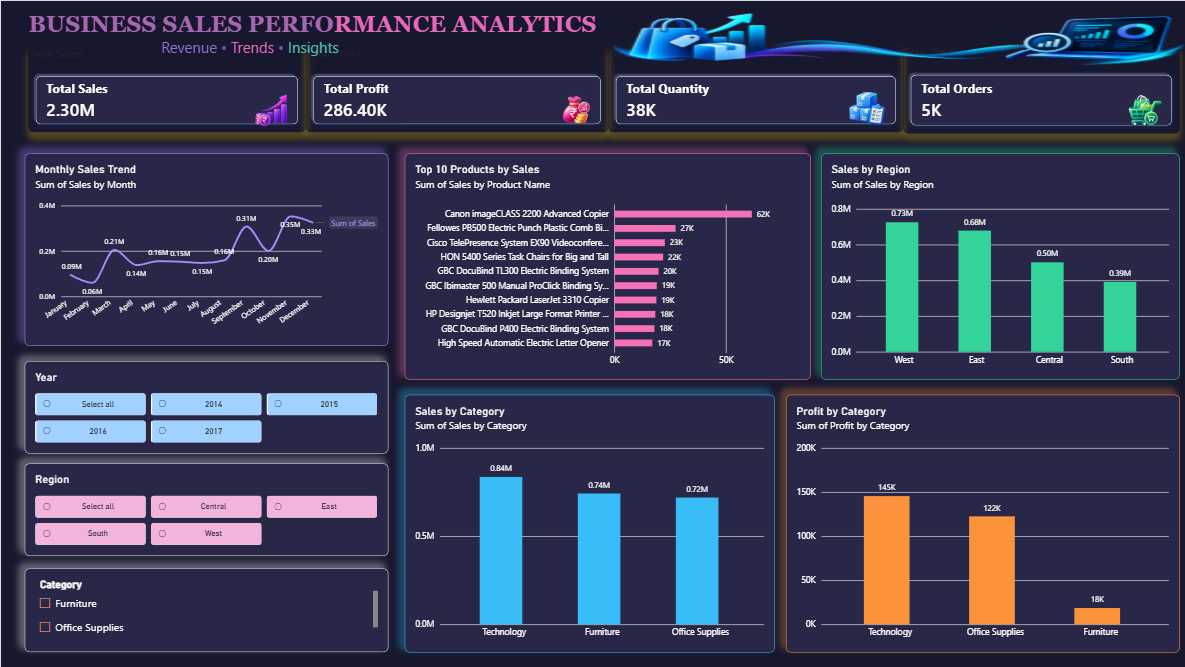

This screenshot's page, from the dashboard's own definition file:
{"tool":"powerbi","page":{"name":"Page 1","canvas":[1920,1080],"ordinal":0},"visuals":[{"type":"cardVisual","title":"Total Sales","fields":{"Data":["Sum(Sample - Superstore.Sales)"]},"box":[44.5,73.3,448.8,139.5],"z":0},{"type":"cardVisual","title":"Total Profit","fields":{"Data":["Sum(Sample - Superstore.Profit)"]},"box":[493.2,73.3,489.2,139.5],"z":1000},{"type":"cardVisual","title":"Total Quantity","fields":{"Data":["Sum(Sample - Superstore.Quantity)"]},"box":[982.4,73.3,477.1,139.5],"z":2000},{"type":"cardVisual","title":"Total Orders","fields":{"Data":["Sample - Superstore.Total Orders"]},"box":[1459.5,71.3,446.7,143.5],"z":3000},{"type":"lineChart","title":"Monthly Sales Trend","fields":{"Category":["Sample - Superstore.Order Date.Variation.Date Hierarchy.Year","Sample - Superstore.Order Date.Variation.Date Hierarchy.Month"],"Y":["Sum(Sample - Superstore.Sales)"]},"box":[38.4,246.6,588.3,311.3],"z":4000},{"type":"clusteredBarChart","title":"Top 10 Products by Sales","fields":{"Category":["Sample - Superstore.Product Name"],"Y":["Sum(Sample - Superstore.Sales)"]},"box":[652.9,246.6,657,365.9],"z":5000},{"type":"clusteredColumnChart","title":"Sales by Category","fields":{"Category":["Sample - Superstore.Category"],"Y":["Sum(Sample - Superstore.Sales)"]},"box":[652.9,636.8,598.4,416.4],"z":6000},{"type":"clusteredColumnChart","title":"Sales by Region","fields":{"Category":["Sample - Superstore.Region"],"Y":["Sum(Sample - Superstore.Sales)"]},"box":[1326.1,246.6,580.2,365.9],"z":7000},{"type":"clusteredColumnChart","title":"Profit by Category","fields":{"Category":["Sample - Superstore.Category"],"Y":["Sum(Sample - Superstore.Profit)"]},"box":[1269.5,636.8,636.8,416.4],"z":8000},{"type":"textbox","box":[469,0,952.1,161.7],"z":9000},{"type":"textbox","box":[44.5,16.2,1000.6,97],"z":10000},{"type":"advancedSlicerVisual","fields":{"Values":["Sample - Superstore.Order Date.Variation.Date Hierarchy.Year"]},"box":[38.4,582.2,588.3,149.6],"z":11000},{"type":"advancedSlicerVisual","fields":{"Values":["Sample - Superstore.Region"]},"box":[38.4,747.9,588.3,149.6],"z":12000},{"type":"slicer","fields":{"Values":["Sample - Superstore.Category"]},"box":[38.4,917.8,588.3,135.4],"z":13000},{"type":"image","box":[313.3,141.5,250.7,66.7],"z":13001},{"type":"image","box":[776.3,141.5,309.3,68.7],"z":13002},{"type":"image","box":[1251.3,129.4,299.2,86.9],"z":13003},{"type":"image","box":[1778.9,141.5,141.5,74.8],"z":13004},{"type":"image","box":[982.4,0,938,129.4],"z":13005}]}

Visuals, with their boxes in screenshot pixels (x1, y1, x2, y2), scaled from the page's 1920x1080 canvas onto the 1185x667 screenshot:
"Total Sales" cardVisual: (27,45,304,131)
"Total Profit" cardVisual: (304,45,606,131)
"Total Quantity" cardVisual: (606,45,901,131)
"Total Orders" cardVisual: (901,44,1176,133)
"Monthly Sales Trend" lineChart: (24,152,387,345)
"Top 10 Products by Sales" clusteredBarChart: (403,152,808,378)
"Sales by Category" clusteredColumnChart: (403,393,772,650)
"Sales by Region" clusteredColumnChart: (818,152,1177,378)
"Profit by Category" clusteredColumnChart: (784,393,1177,650)
textbox: (289,0,877,100)
textbox: (27,10,645,70)
advancedSlicerVisual - Sample - Superstore.Order Date.Variation.Date Hierarchy.Year: (24,360,387,452)
advancedSlicerVisual - Sample - Superstore.Region: (24,462,387,554)
slicer - Sample - Superstore.Category: (24,567,387,650)
image: (193,87,348,129)
image: (479,87,670,130)
image: (772,80,957,134)
image: (1098,87,1184,134)
image: (606,0,1184,80)
